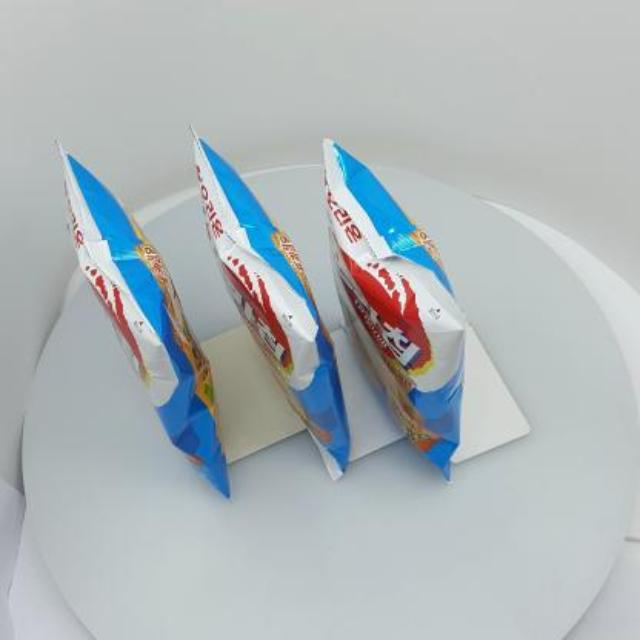snack_bag: (32, 114, 498, 510)
